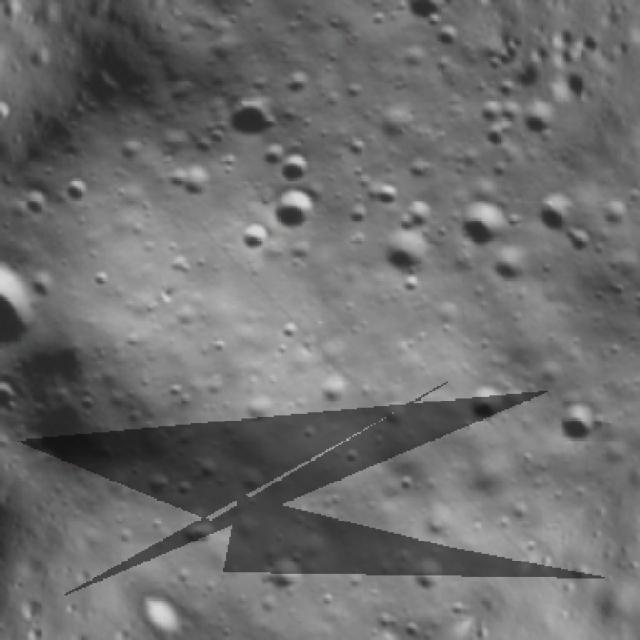crater: (0, 240, 65, 377), (216, 81, 296, 161), (445, 188, 521, 264), (544, 382, 619, 458), (367, 218, 442, 293), (250, 540, 318, 608), (459, 370, 527, 438), (262, 176, 329, 244), (479, 233, 546, 301), (390, 179, 458, 246), (508, 92, 569, 153), (142, 580, 204, 640), (530, 186, 588, 245), (171, 152, 229, 210), (270, 141, 325, 197), (224, 212, 278, 266), (402, 546, 456, 600), (468, 116, 518, 164), (396, 0, 452, 31), (0, 368, 31, 421), (618, 278, 640, 340)
